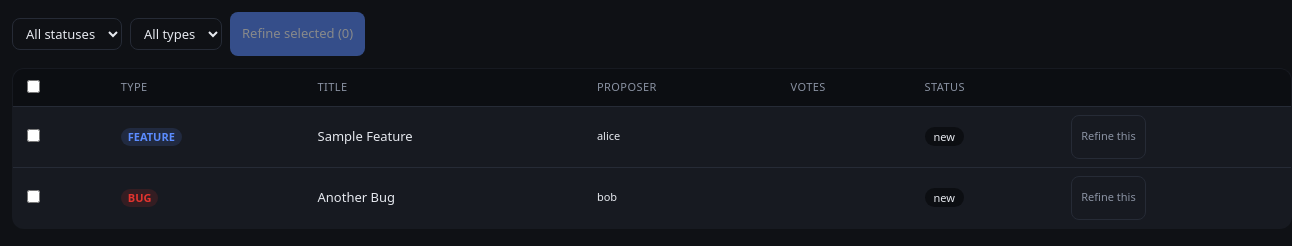
it: BacklogTab › 'Refine selected (N)' label tracks selection count and is disabled at 0
Expected: the button "Refine selected (0)" is shown, x1=230 y1=12 x2=365 y2=56
Expected: the button "Refine selected (0)" is disabled, x1=230 y1=12 x2=365 y2=56
Click the checkbox named "Select Sample Feature" at (34, 135), box x1=27 y1=129 x2=40 y2=142
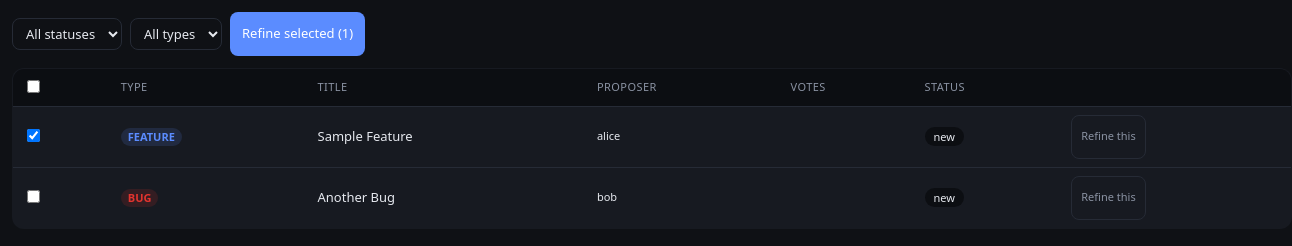
Expected: the button "Refine selected (1)" is shown, x1=230 y1=12 x2=365 y2=56
Expected: the button "Refine selected (1)" is enabled, x1=230 y1=12 x2=365 y2=56
Click the checkbox named "Select Another Bug" at (34, 196), box x1=27 y1=190 x2=40 y2=203
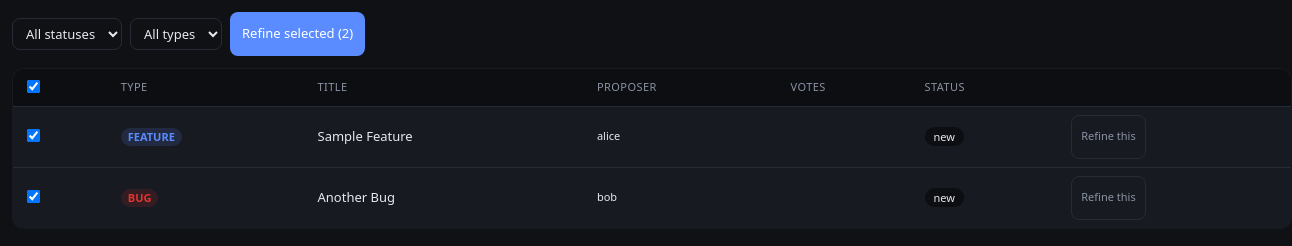
Expected: the button "Refine selected (2)" is shown, x1=230 y1=12 x2=365 y2=56
